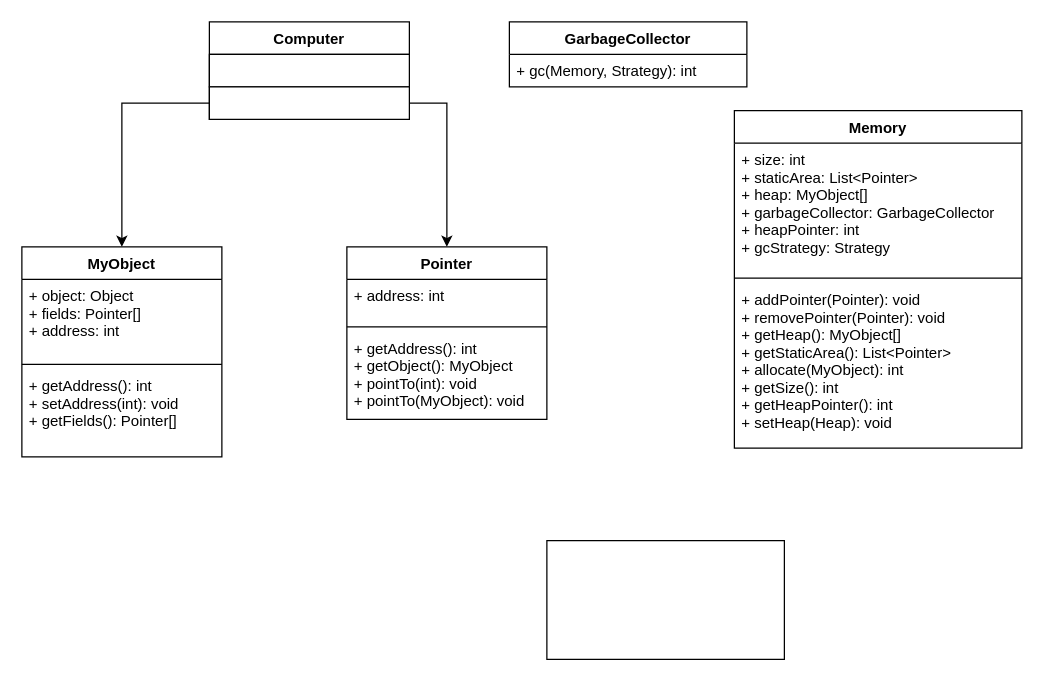
This 1044x691 diagram has some shape labels left out. The shapes that lost their labels are listed below. From the top down, each one's centre as x and y in pixels, then its label:
At pixel 308 70: "+ memory: Memory".
At pixel 308 102: "+ run(Task): void".
At pixel 665 599: "<<Interface>> Strategy + execute (Memory): int".
